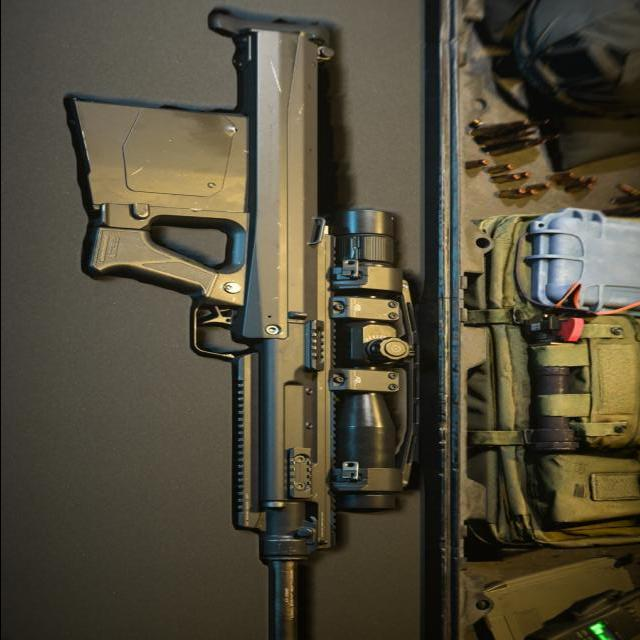scope: (327, 194, 418, 520)
sniper rifle: (57, 2, 421, 640)
